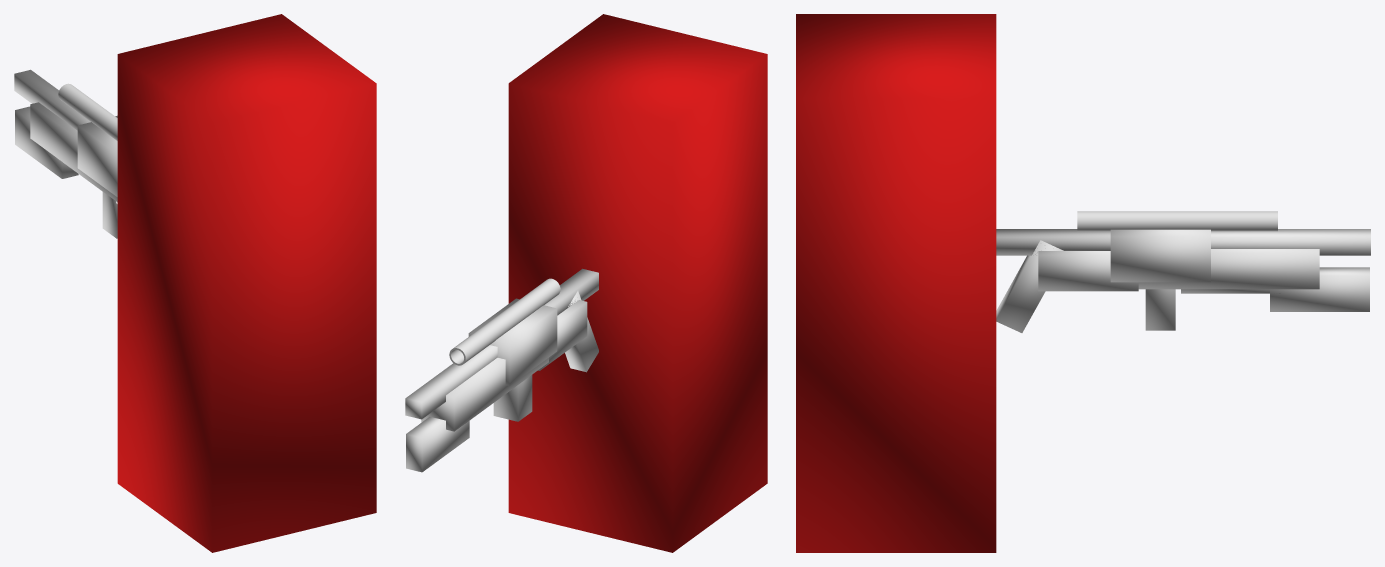
The model's file is Sniper.fbx.
3 views of the same model, side by side, from view 1: azimuth 30°, elevation 25°; view 2: azimuth 150°, elevation 25°; view 3: azimuth 270°, elevation 25° (orthographic). The views are drawn at different scales.
Visible parts, largest first — view 1: Cubo, Cubo.4, Cubo.5, Cubo.1, Cubo.2, Tubo, Cubo.6; view 2: Cubo, Cubo.1, Cubo.5, Cubo.4, Tubo, Cubo.2, Cubo.8, Cubo.6, Cubo.7; view 3: Cubo, Cubo.1, Cubo.5, Cubo.4, Tubo, Cubo.2, Cubo.8, Cubo.7, Cubo.6.
Boxes of the visible parts, x1,y1,x2,y2 form: Cubo: (117, 14, 376, 552); Cubo.4: (30, 102, 117, 201); Cubo.5: (77, 115, 117, 196); Cubo.1: (14, 69, 90, 130); Cubo.2: (15, 106, 78, 178); Tubo: (58, 83, 117, 140); Cubo.6: (102, 192, 117, 238); Cubo: (508, 14, 767, 552); Cubo.1: (405, 268, 598, 419); Cubo.5: (468, 298, 557, 385); Cubo.4: (421, 357, 548, 431); Tubo: (449, 278, 560, 365); Cubo.2: (406, 416, 469, 472); Cubo.8: (538, 300, 587, 370); Cubo.6: (493, 375, 532, 421); Cubo.7: (565, 291, 598, 372); Cubo: (796, 14, 996, 552); Cubo.1: (996, 229, 1370, 255); Cubo.5: (1110, 229, 1210, 282); Cubo.4: (1138, 249, 1319, 289); Tubo: (1077, 211, 1277, 231); Cubo.2: (1270, 267, 1369, 311); Cubo.8: (1038, 251, 1138, 291); Cubo.7: (996, 240, 1063, 332); Cubo.6: (1145, 289, 1175, 330).
Bounding box in the file's own units: 100 × 250 × 287.
